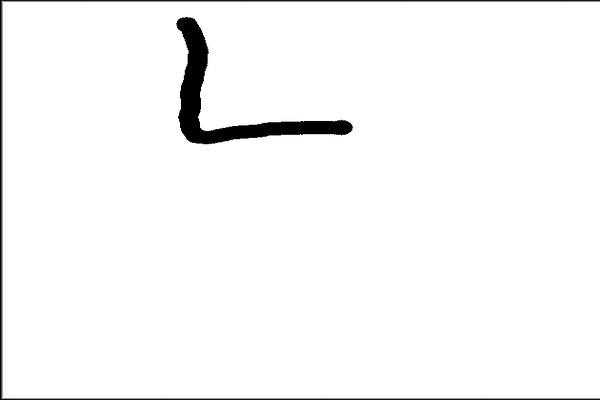L: (166, 8, 362, 146)
